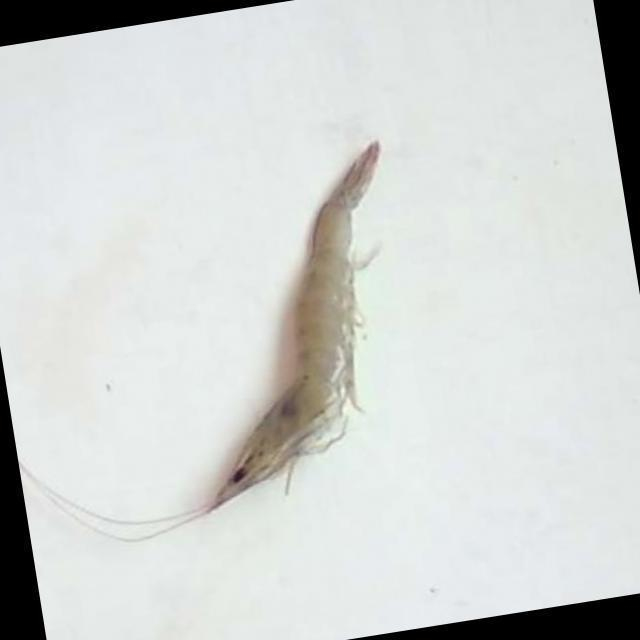shrimp: (19, 141, 380, 542)
